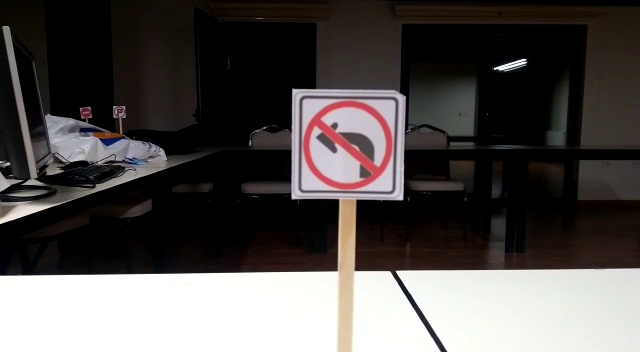sola_donulmez: (293, 96, 399, 196)
